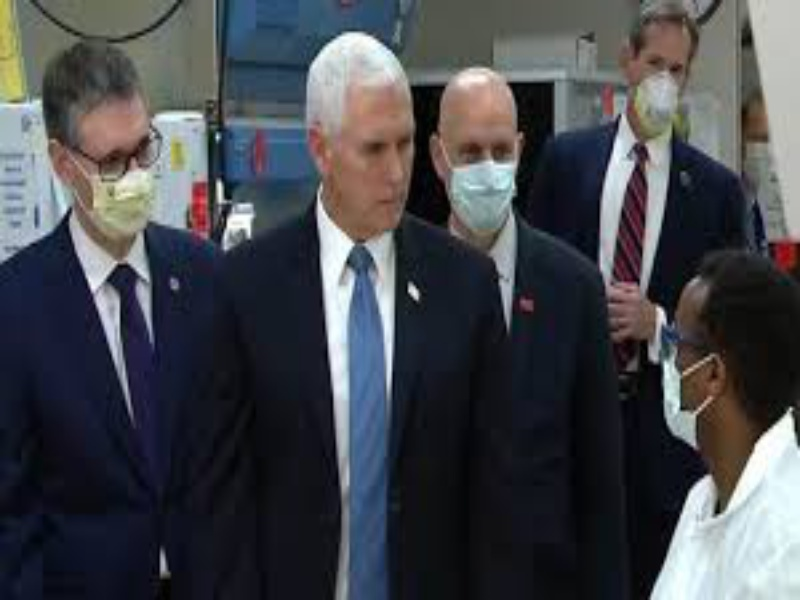ManaoArotava: (34, 46, 178, 250), (420, 63, 536, 237), (620, 4, 704, 151)
TsisyArotava: (298, 36, 434, 244)
